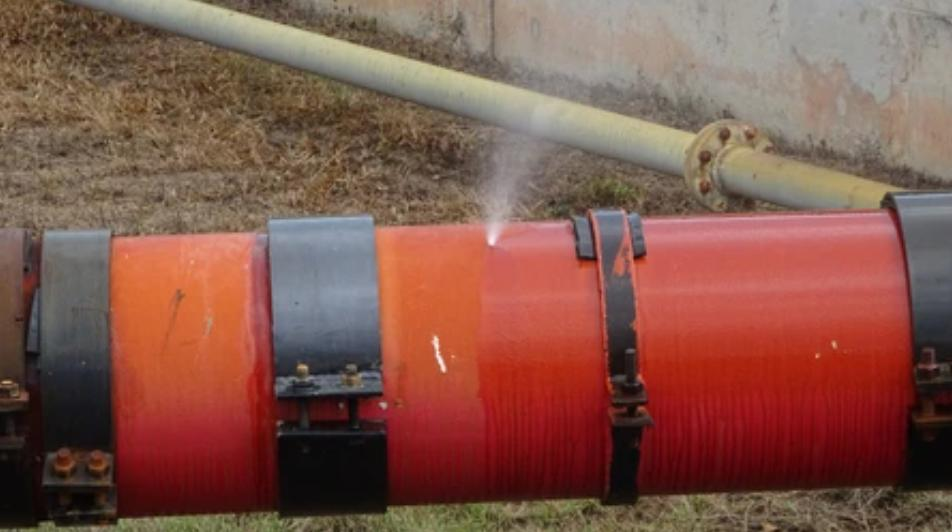pipe burst: (483, 77, 569, 248)
